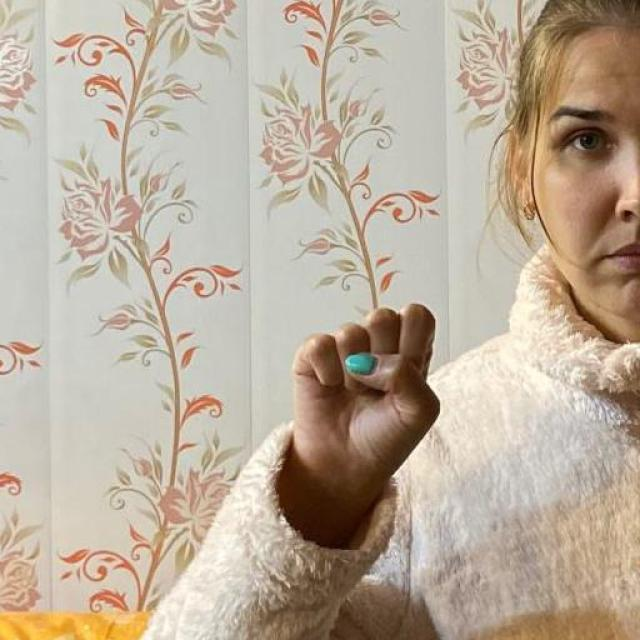hand: (288, 300, 442, 492)
